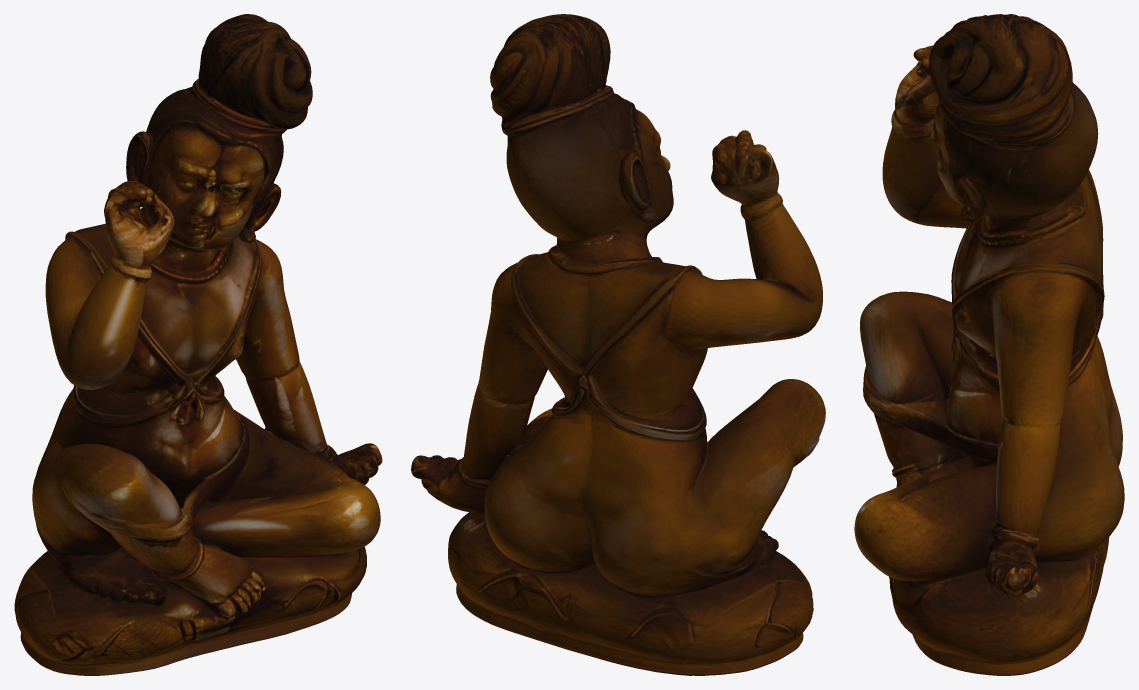
The picture shows the model from 3 angles, left to right: view 1: azimuth 30°, elevation 25°; view 2: azimuth 150°, elevation 25°; view 3: azimuth 270°, elevation 25°; orthographic projection. The views are drawn at different scales.
Visible parts, largest first — view 1: textured_mesh; view 2: textured_mesh; view 3: textured_mesh.
Part boxes in pixels (box(x1,y1,x2,y2)): textured_mesh: box(14, 14, 382, 675); textured_mesh: box(411, 14, 825, 675); textured_mesh: box(854, 14, 1124, 675).
Bounding box in the file's own units: 1.33 × 1.99 × 0.7965.
1 material, 1 textured.
